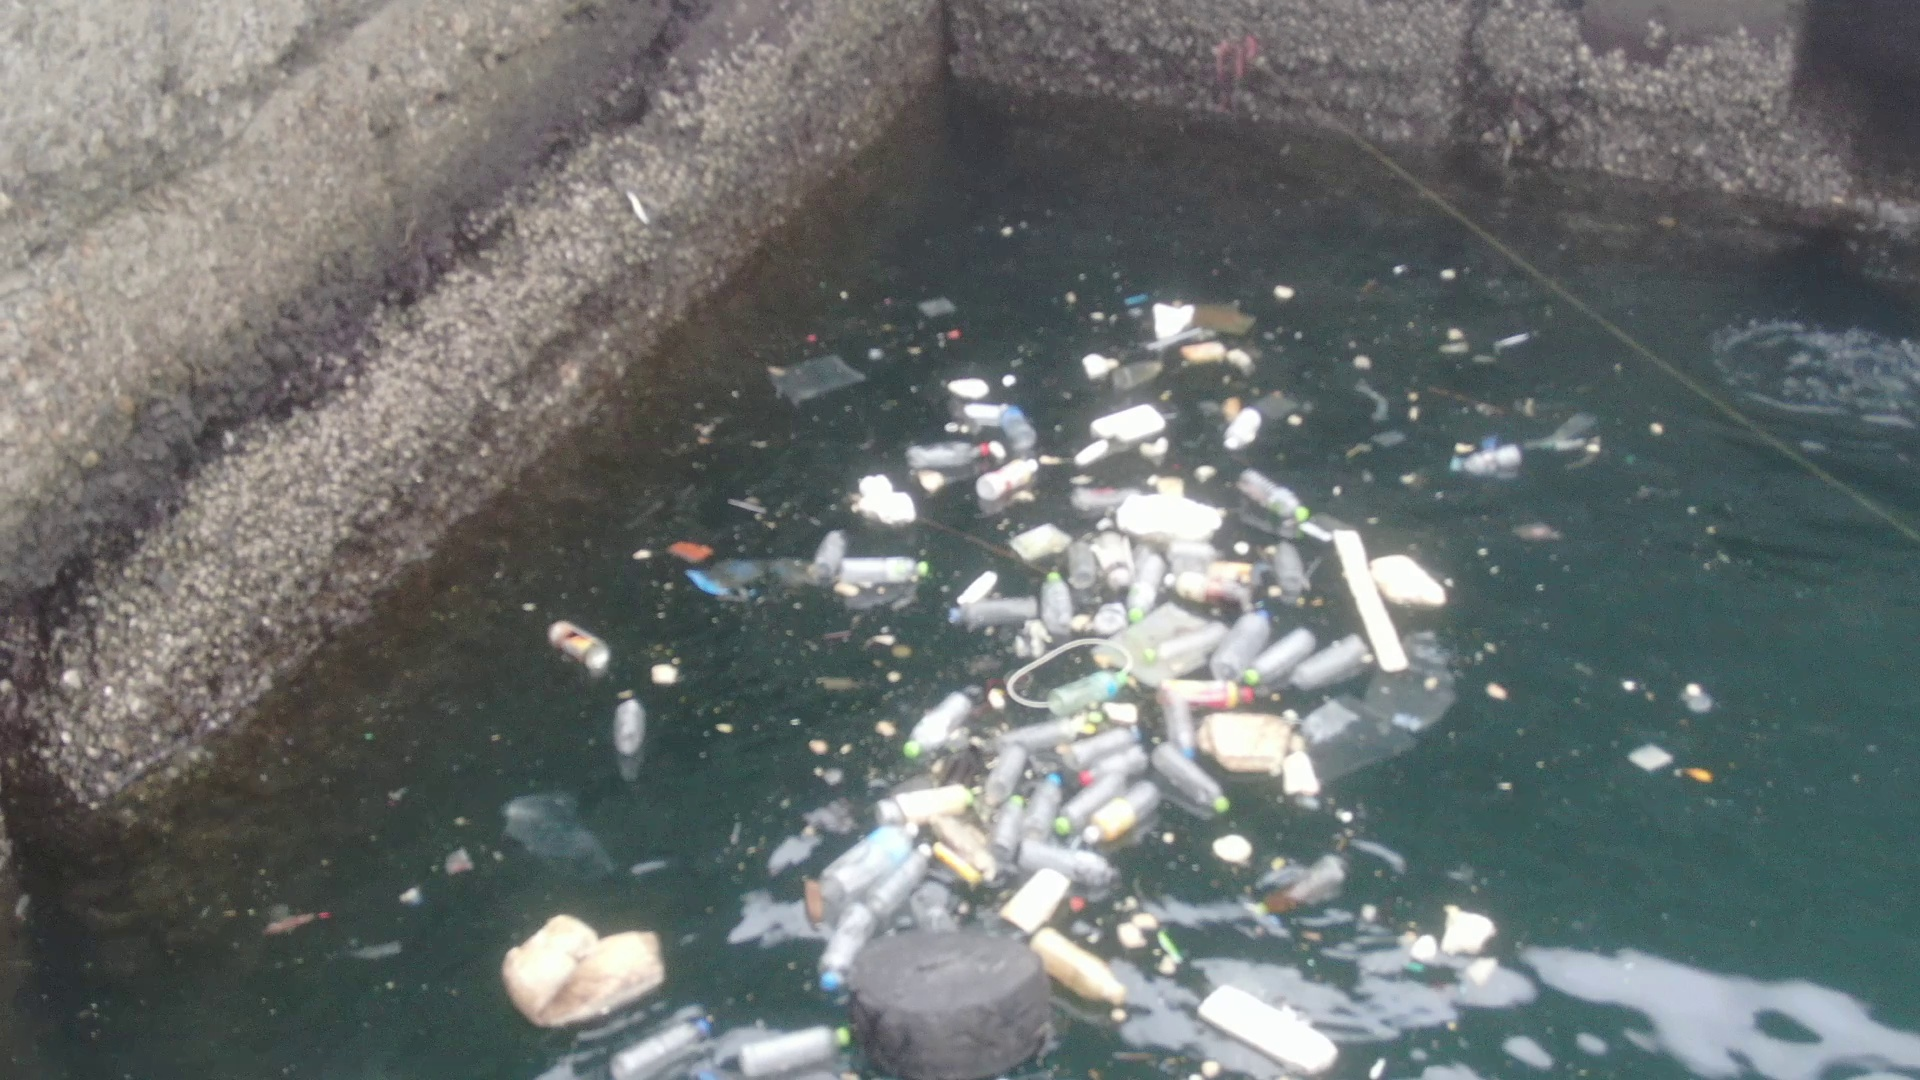bottle: (1027, 913, 1137, 1022), (603, 1010, 728, 1080), (727, 1007, 847, 1080), (870, 761, 998, 825), (1150, 742, 1241, 831), (1075, 781, 1180, 855), (898, 670, 977, 767), (812, 891, 880, 1000), (928, 583, 1052, 636), (832, 541, 942, 599), (1288, 626, 1382, 694), (1447, 429, 1545, 491), (1059, 727, 1156, 789), (539, 604, 618, 676), (1230, 626, 1313, 683), (1025, 761, 1073, 855), (1034, 564, 1087, 642), (603, 686, 657, 760), (975, 451, 1046, 506)
garbage: (657, 485, 1470, 899), (773, 262, 1461, 727), (436, 820, 1543, 1080)
